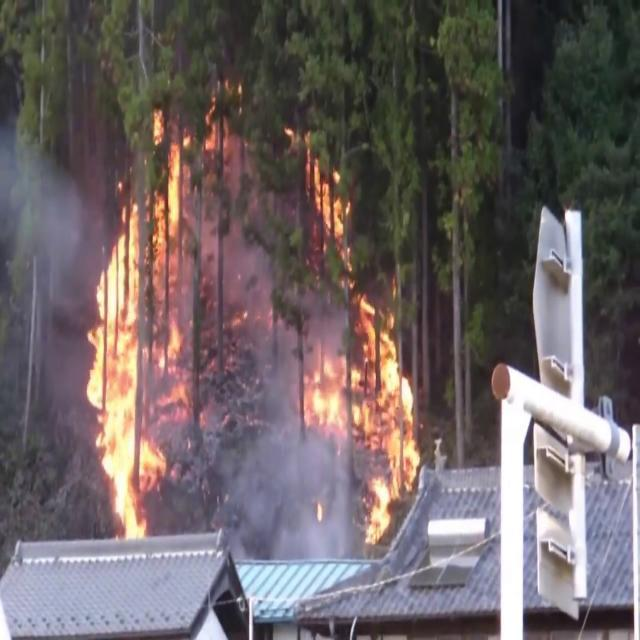Fire: (79, 126, 197, 541), (297, 173, 425, 544)
Smoke: (0, 89, 103, 334), (210, 380, 348, 560)
